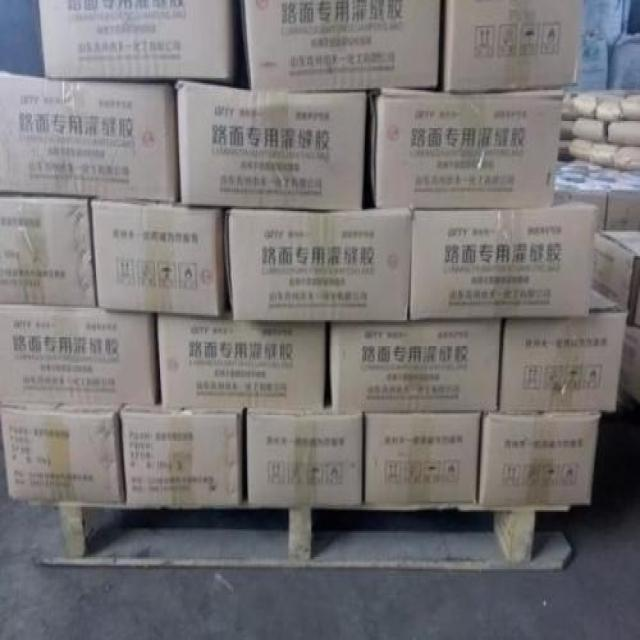Carton: (0, 2, 225, 306), (177, 0, 436, 206), (156, 209, 408, 408), (376, 93, 558, 206), (411, 208, 590, 313), (330, 320, 498, 408), (0, 315, 154, 403), (1, 410, 124, 509), (504, 310, 621, 408), (443, 0, 577, 85), (120, 417, 239, 507), (243, 412, 360, 498), (481, 413, 594, 500), (364, 413, 477, 496)
